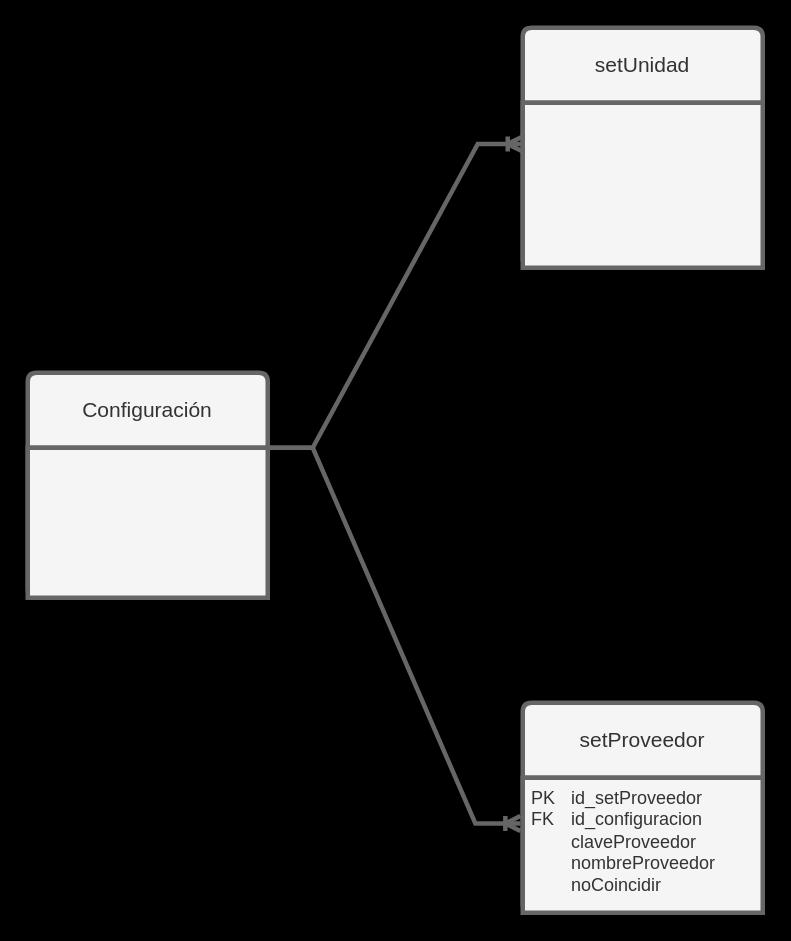
Image size: 791x941. Some labels were removed from this diagram. Here are the shapes that lost their labels. From the top down, the centre of each, then its label:
[642,184]: PK id_setunidad FK id_configuracion tipoUnidad cantidad horaInicio horaFin
[147,522]: PK id_configuracion nombre descripcion fechaInicio fechaFin estatus
